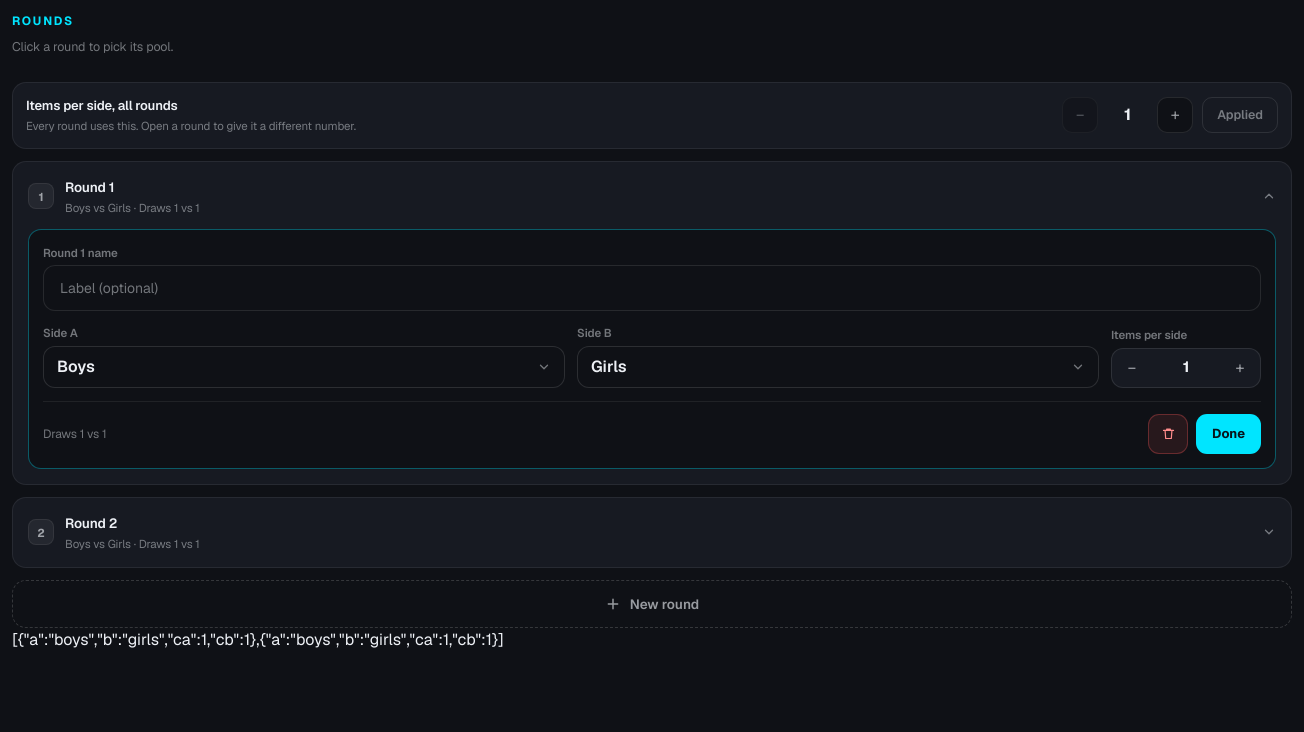
Scenario: VersusEditor › allows the same pool on both sides and shows the single-pool note
Click the dropdown named "Side B for round 1" at (609, 366), box x1=577 y1=346 x2=1099 y2=388
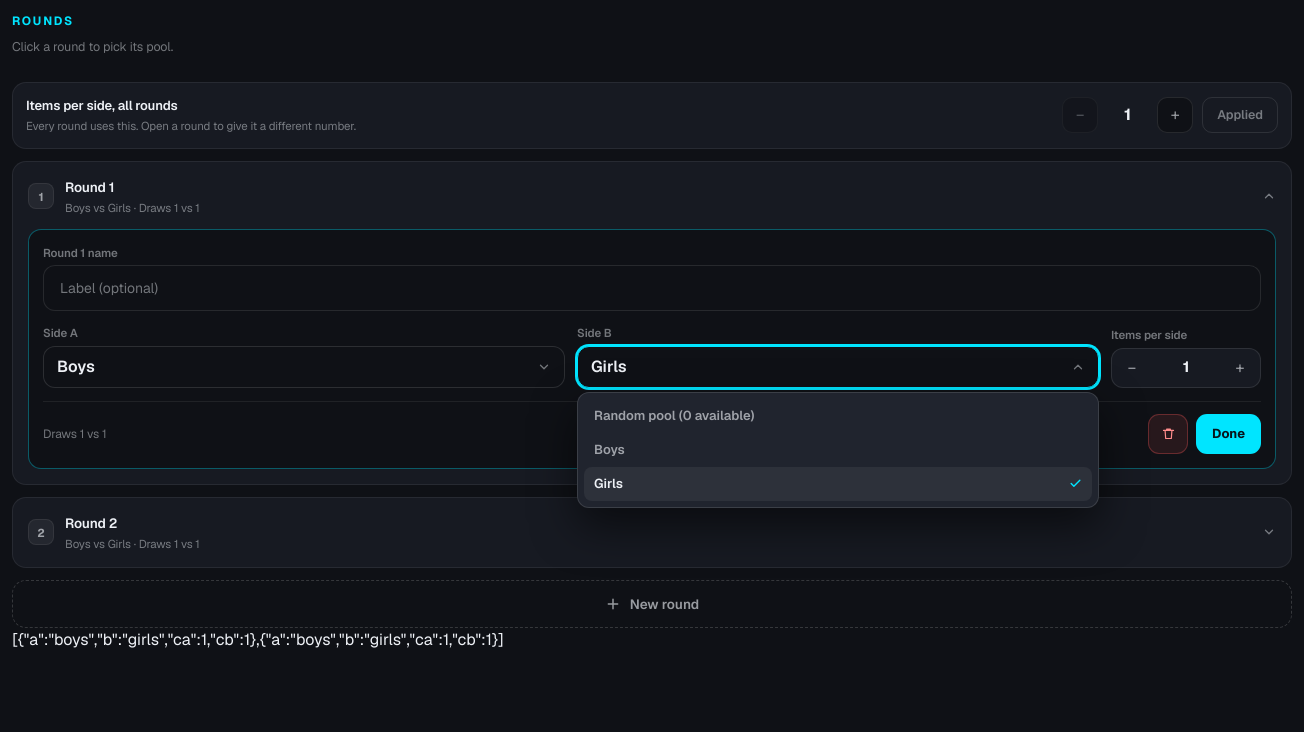
Click the option "Boys" at (609, 449), box x1=594 y1=441 x2=625 y2=458
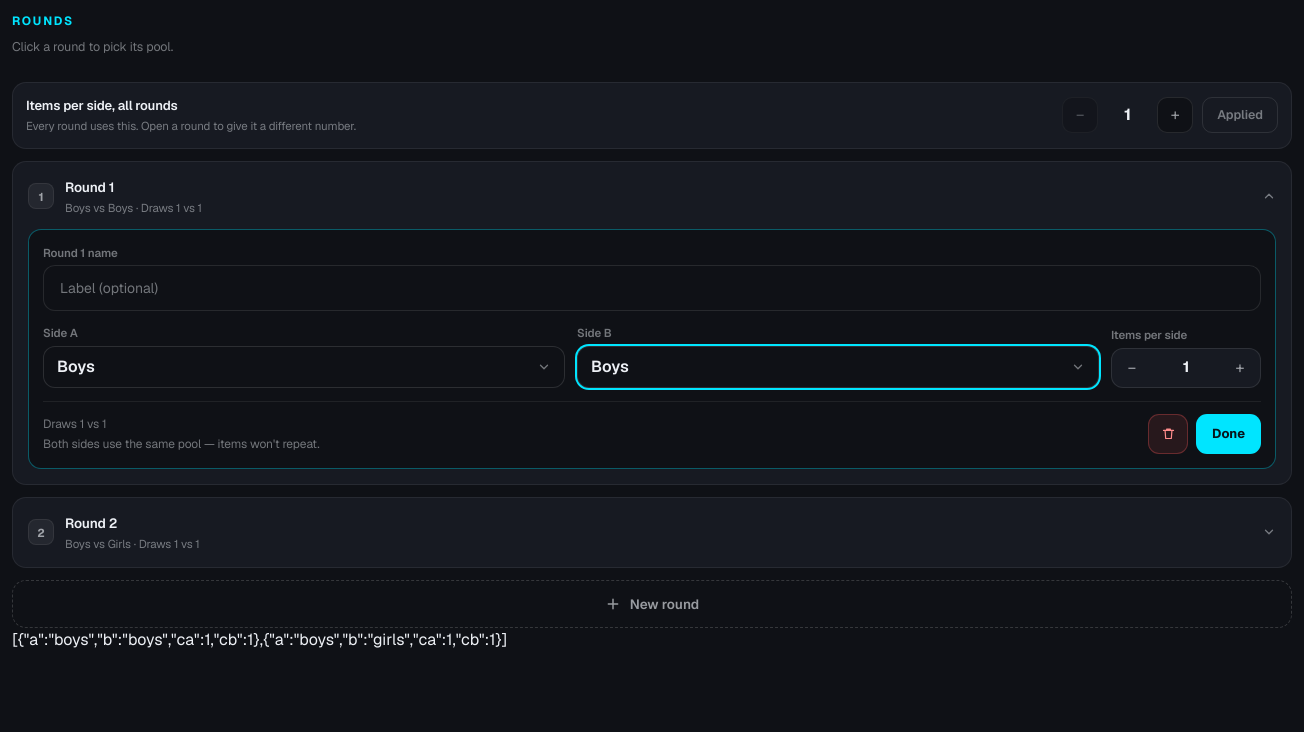
Check: the text "Both sides use the same pool — items won't repeat." is shown, box x1=43 y1=436 x2=320 y2=452
